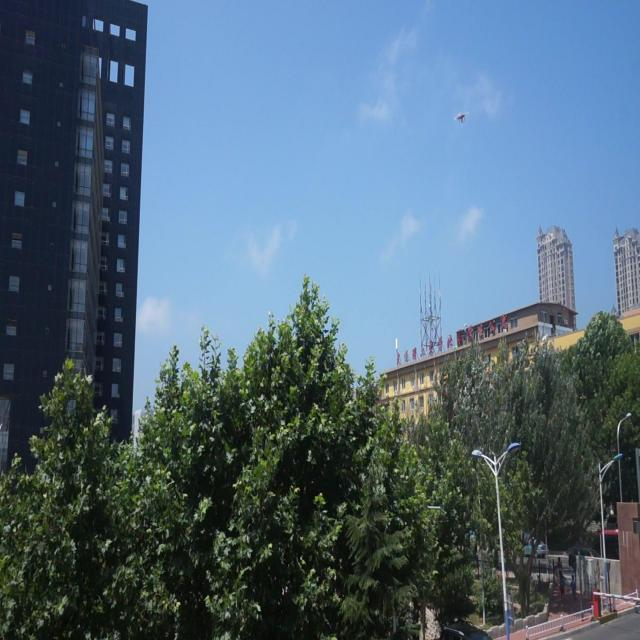UAV: (454, 110, 469, 124)
